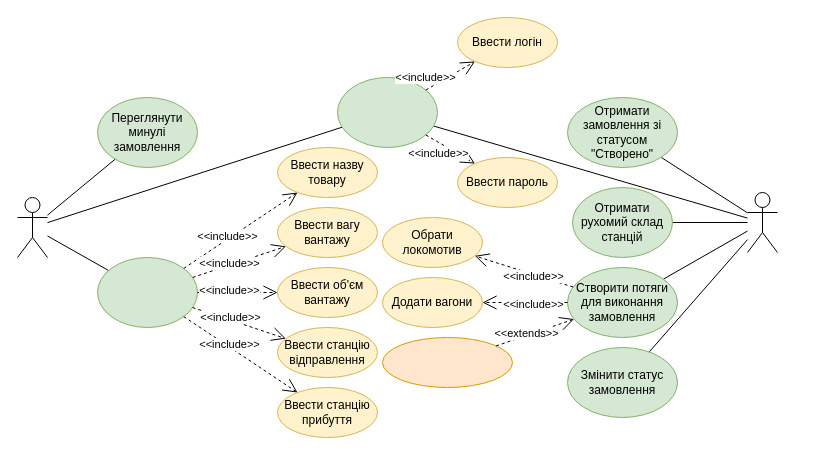
Some shapes in this 815 by 455 pixel diagram are drawn without their labels. The box of each missing label's shape, as (x1, y1, x2, y2) in pixels:
Administrator: (746, 192, 778, 252)
Client: (16, 196, 48, 258)
Авторизація: (336, 76, 438, 148)
Додати вагони з найближчих станцій: (382, 336, 512, 388)
Створити нове замовлення: (96, 256, 198, 328)
